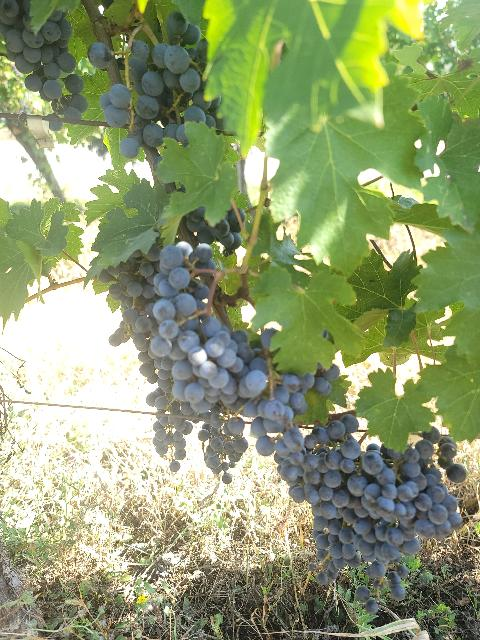grapes: (109, 242, 269, 412), (344, 428, 466, 615), (290, 414, 388, 585), (120, 12, 220, 159), (251, 374, 315, 502)
